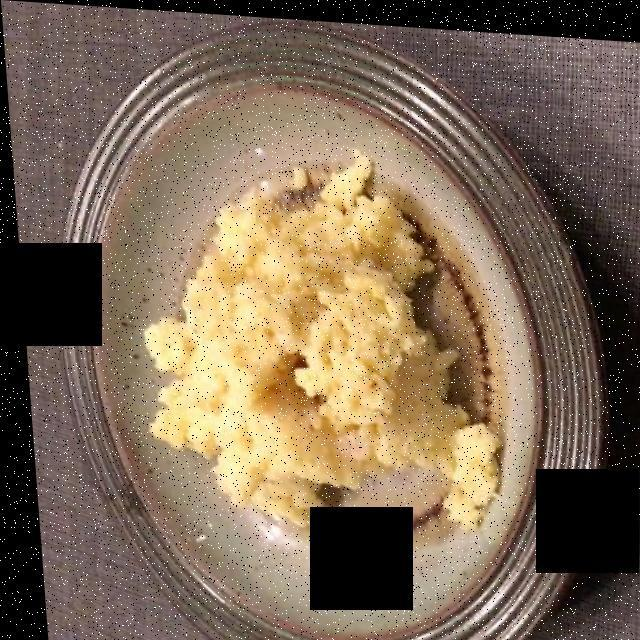risotto: (141, 161, 482, 521)
